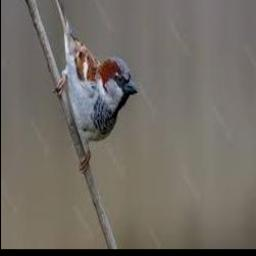Sparrow: (53, 0, 138, 173)
